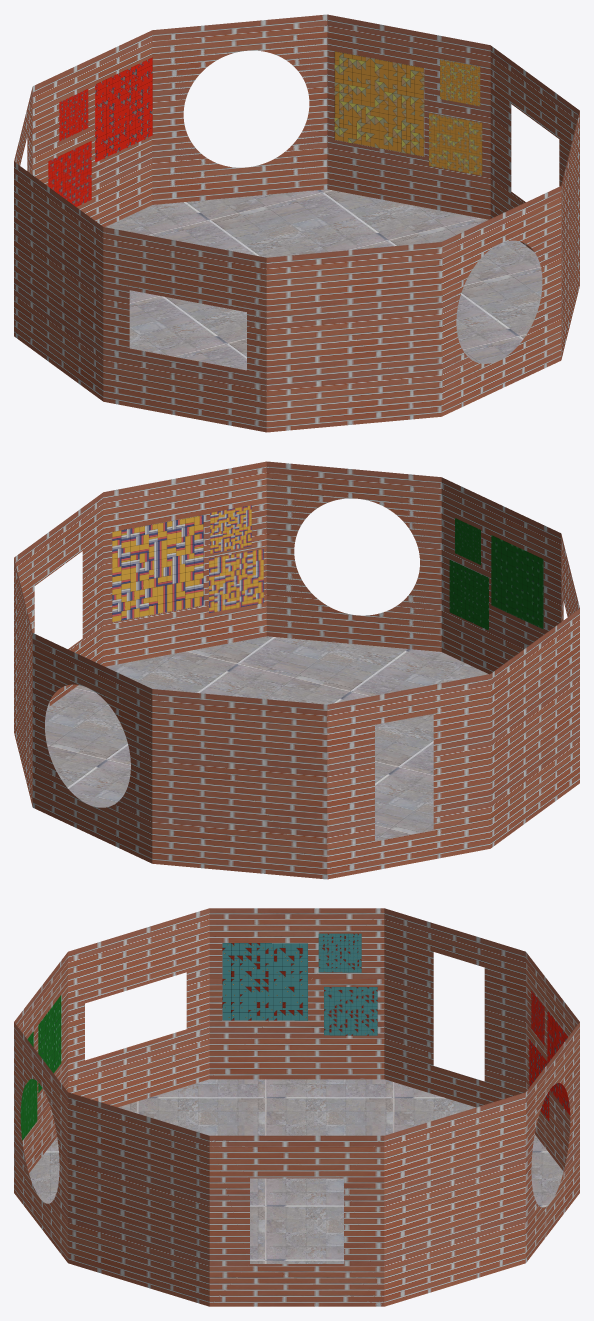
Rendered from Finale.gltf.
The picture shows the model from 3 angles, top to bottom: view 1: azimuth 30°, elevation 25°; view 2: azimuth 150°, elevation 25°; view 3: azimuth 270°, elevation 25°; orthographic projection. The views are drawn at different scales.
Parts seen in each view (by area): view 1: Cylinder, IP 13, IP 7, IP 15, IP 8, IP 14, IP 9; view 2: Cylinder, IP 10, IP 4, IP 11, IP 6, IP 12, IP 5; view 3: Cylinder, IP 1, IP 2, IP 3, IP 4, IP 7, IP 6, IP 8, IP 9.
Boxes of the visible parts, left/top/right/bottom form: Cylinder: left=14, top=14, right=579, bottom=432; IP 13: left=334, top=51, right=424, bottom=156; IP 7: left=95, top=57, right=152, bottom=162; IP 15: left=429, top=113, right=482, bottom=175; IP 8: left=48, top=141, right=91, bottom=206; IP 14: left=440, top=59, right=480, bottom=106; IP 9: left=59, top=89, right=88, bottom=141; Cylinder: left=14, top=461, right=579, bottom=879; IP 10: left=112, top=515, right=203, bottom=622; IP 4: left=491, top=535, right=543, bottom=629; IP 11: left=209, top=549, right=263, bottom=612; IP 6: left=449, top=560, right=488, bottom=630; IP 12: left=210, top=505, right=251, bottom=553; IP 5: left=455, top=518, right=480, bottom=564; Cylinder: left=14, top=908, right=579, bottom=1306; IP 1: left=222, top=943, right=307, bottom=1020; IP 2: left=324, top=987, right=377, bottom=1035; IP 3: left=318, top=933, right=361, bottom=972; IP 4: left=38, top=995, right=61, bottom=1093; IP 7: left=547, top=1010, right=570, bottom=1115; IP 6: left=20, top=1079, right=37, bottom=1140; IP 8: left=529, top=1039, right=549, bottom=1121; IP 9: left=531, top=991, right=544, bottom=1045.
Size of the model in its own units: 8.56 by 3 by 9.
Materials: 17 (17 with a texture image).
